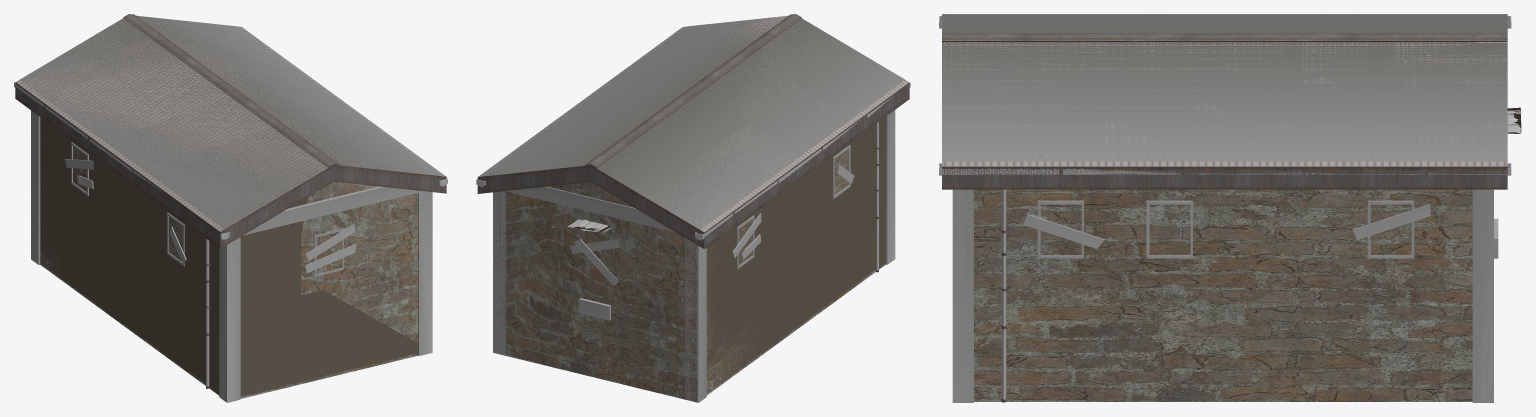
The model's file is ind_bld_05.dae.
The picture shows the model from 3 angles, left to right: view 1: azimuth 30°, elevation 25°; view 2: azimuth 150°, elevation 25°; view 3: azimuth 270°, elevation 25°; orthographic projection. The views are drawn at different scales.
Visible parts, largest first — view 1: ind_bld_05_a10, Colmesh-1, ind_bld_05_a2000, ind_bld_05_a250; view 2: ind_bld_05_a10, Colmesh-1, ind_bld_05_a2000, ind_bld_05_a250; view 3: Colmesh-1, ind_bld_05_a10, ind_bld_05_a2000, ind_bld_05_a250.
Boxes of the visible parts, bbox=[...] form: ind_bld_05_a10: bbox=[20, 15, 441, 396]; Colmesh-1: bbox=[15, 14, 446, 402]; ind_bld_05_a2000: bbox=[14, 16, 447, 402]; ind_bld_05_a250: bbox=[14, 83, 447, 388]; ind_bld_05_a10: bbox=[482, 15, 904, 390]; Colmesh-1: bbox=[477, 14, 909, 402]; ind_bld_05_a2000: bbox=[476, 16, 910, 402]; ind_bld_05_a250: bbox=[482, 83, 910, 285]; Colmesh-1: bbox=[942, 14, 1507, 402]; ind_bld_05_a10: bbox=[942, 14, 1521, 161]; ind_bld_05_a2000: bbox=[939, 16, 1521, 402]; ind_bld_05_a250: bbox=[939, 114, 1521, 402].
Bounding box in the file's own units: 6.72 × 10.84 × 6.15.
